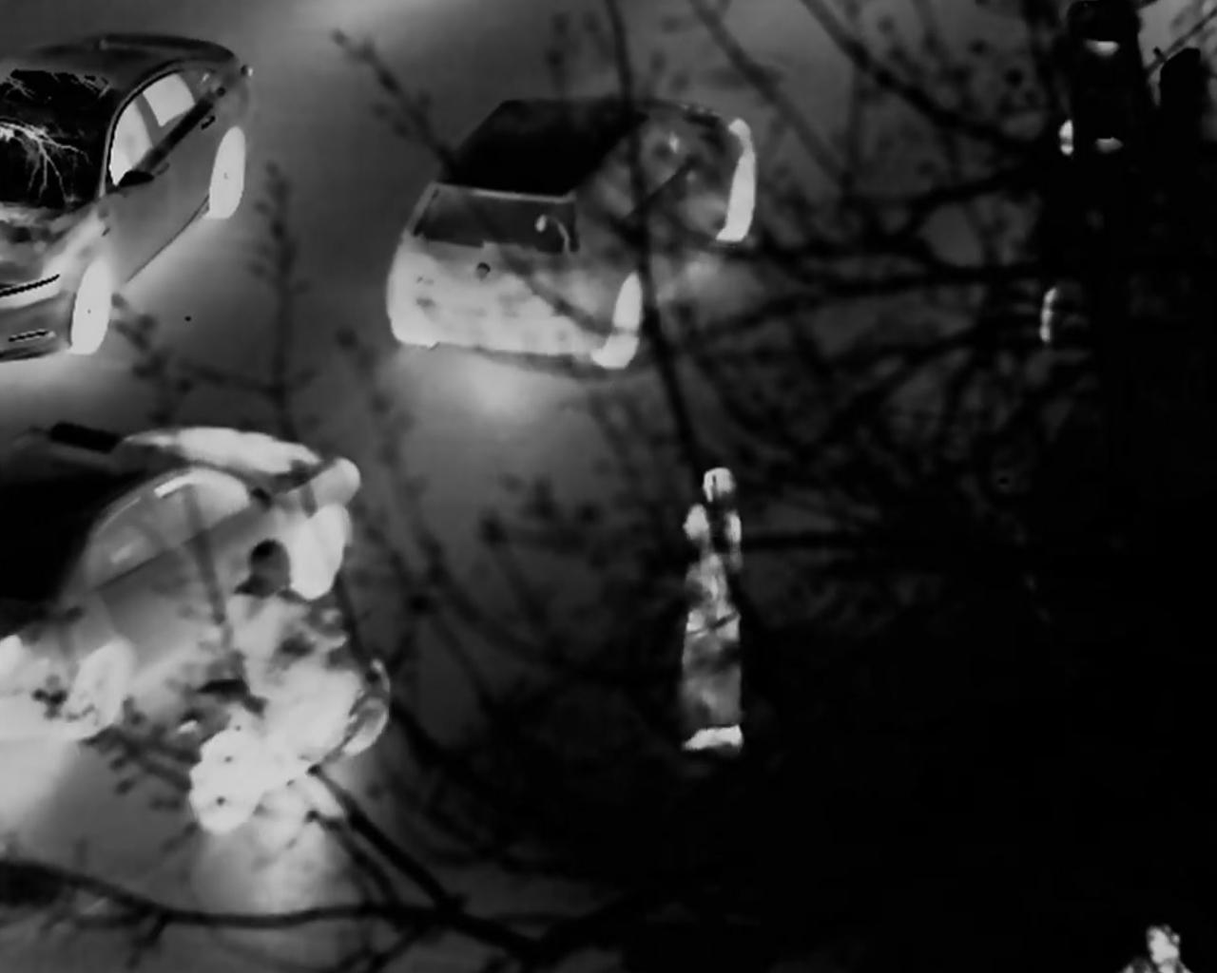person: (677, 467, 751, 699), (675, 506, 743, 754)
